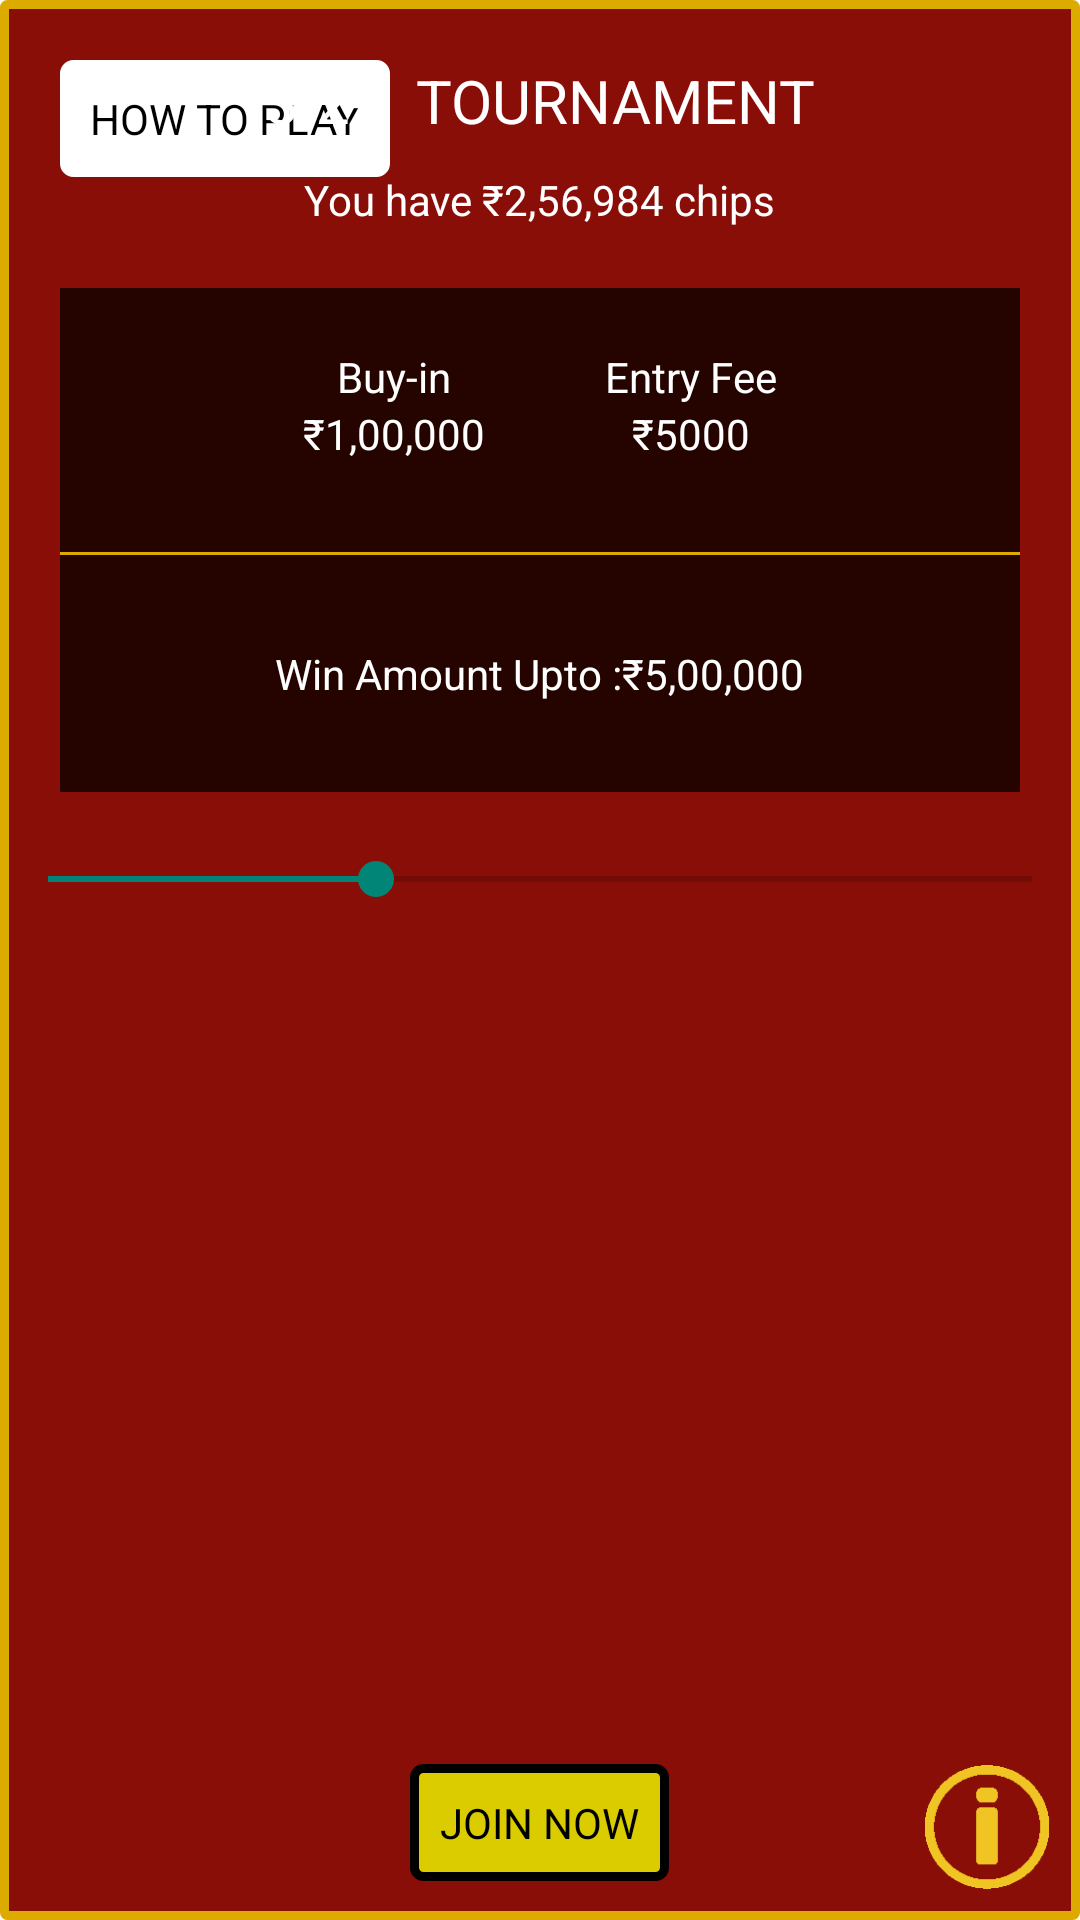

Icons on this 1080*1920 Android screen, each with the point to tap as (x,y):
infogame: (987,1827)
